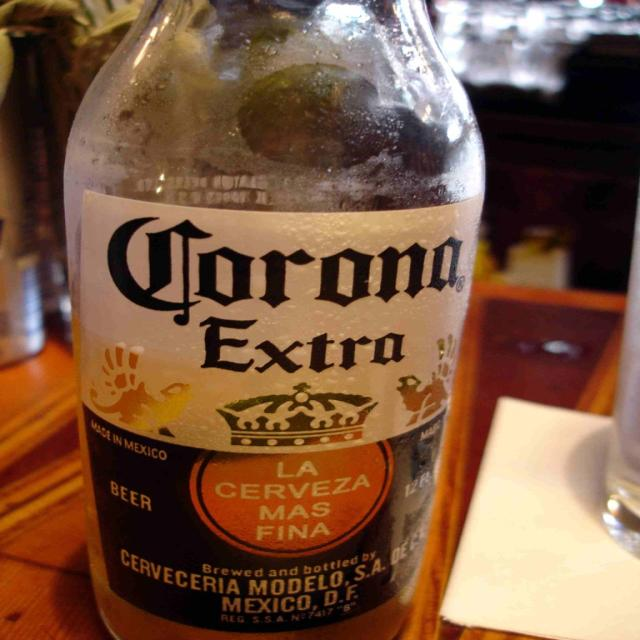corona: (79, 191, 485, 639)
